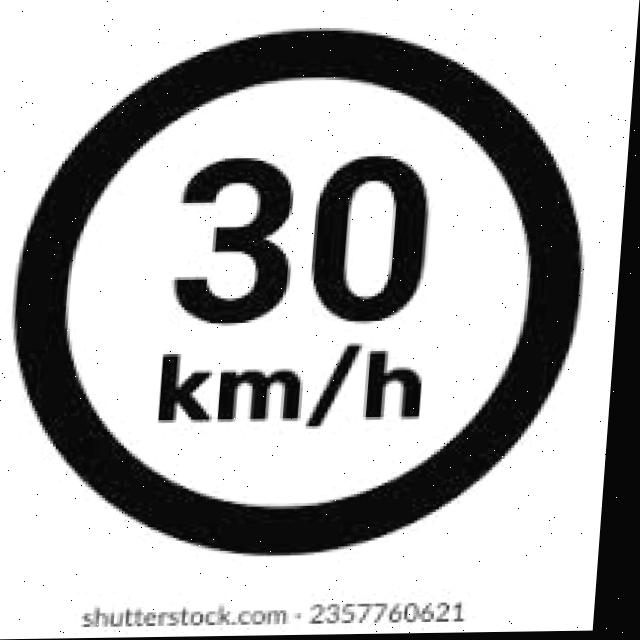Speed limit 30: (1, 21, 607, 561)
